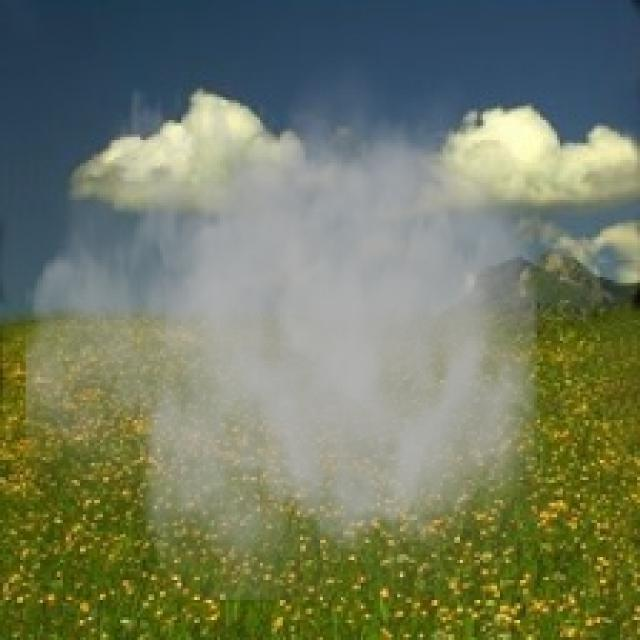smoke: (26, 34, 568, 600)
